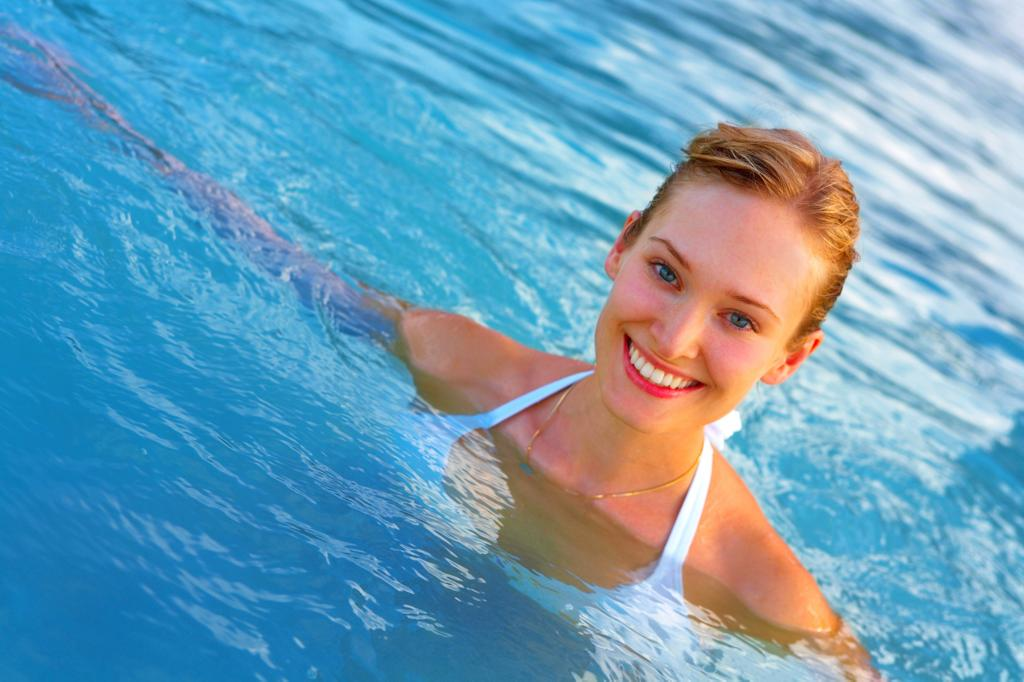face: (600, 196, 808, 428)
